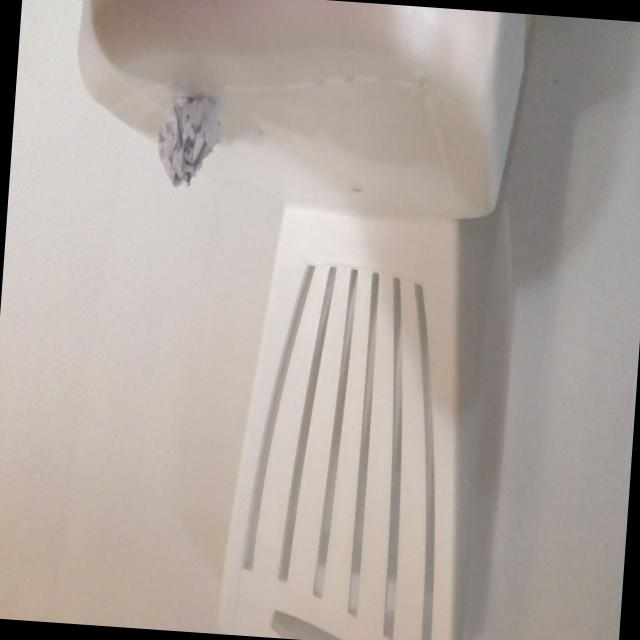crumpled_paper: (150, 83, 227, 197)
